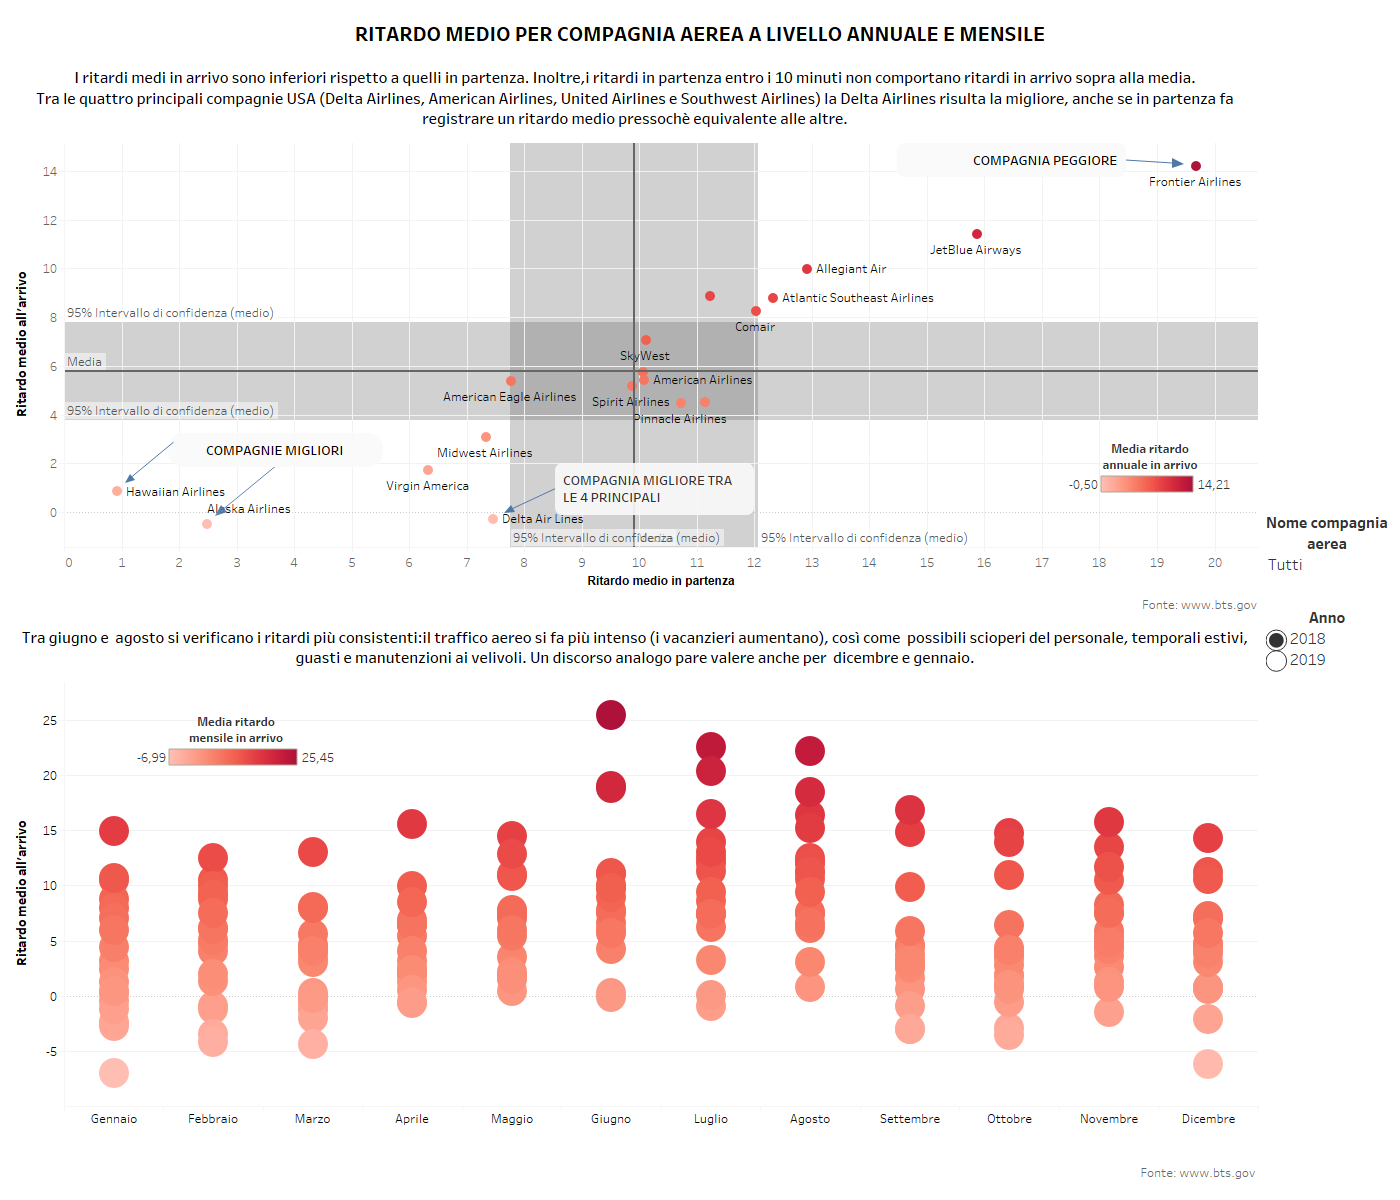

The dashboard page shown, as its layout file describes it:
{"tool":"tableau","page":{"name":"Dashboard1","canvas":[1280,1024],"ordinal":1},"visuals":[{"type":"worksheet","box":[0,0,1280,1024]},{"type":"worksheet","box":[8,8,1264,42.5]},{"type":"worksheet","box":[8,50.5,1170,69.5]},{"type":"worksheet","box":[1178,50.5,94,51.1]},{"type":"worksheet","box":[1178,101.6,94,342.4]},{"type":"worksheet","param":"horz","box":[8,120,1170,425]},{"type":"worksheet","param":"horz","box":[8,120,1170,425]},{"type":"worksheet","title":"scatterplot_airlines","mark":"Circle","rows":["ARR_DELAY"],"cols":["DEP_DELAY"],"box":[8,120,1170,425]},{"type":"worksheet","title":"scatterplot_airlines","mark":"Circle","rows":["ARR_DELAY"],"cols":["DEP_DELAY"],"param":"[federated.0pieon81nj26g817genev0jxk5vg].[avg:ARR_DELAY:qk]","box":[988,384,155,80]},{"type":"worksheet","param":"vert","box":[1178,444,94,572]},{"type":"worksheet","title":"scatterplot_airlines","mark":"Circle","rows":["ARR_DELAY"],"cols":["DEP_DELAY"],"param":"[federated.0pieon81nj26g817genev0jxk5vg].[none:Airline_Name:nk]","box":[1178,444,94,82]},{"type":"worksheet","title":"scatterplot_airlines","mark":"Circle","rows":["ARR_DELAY"],"cols":["DEP_DELAY"],"param":"[federated.0pieon81nj26g817genev0jxk5vg].[none:YEAR:nk]","box":[1178,526,94,86]},{"type":"worksheet","box":[8,545,1170,52]},{"type":"worksheet","title":"dotplot_airlines","mark":"Circle","rows":["ARR_DELAY"],"cols":["MONTH"],"box":[8,597,1170,386.2]},{"type":"worksheet","title":"dotplot_airlines","mark":"Circle","rows":["ARR_DELAY"],"cols":["MONTH"],"param":"[federated.0pieon81nj26g817genev0jxk5vg].[avg:ARR_DELAY:qk]","box":[122,617,188,63]},{"type":"worksheet","box":[8,983.2,1170,32.8]}]}

Visuals, with their boxes on the page's 1280x1024 design canvas (x1, y1, x2, y2). These are canvas units, not pixel positions in the 1400x1200 screenshot, which may show the page scaled, cropped or inside an application window:
worksheet: (0,0,1280,1024)
worksheet: (8,8,1272,50)
worksheet: (8,50,1178,120)
worksheet: (1178,50,1272,102)
worksheet: (1178,102,1272,444)
worksheet: (8,120,1178,545)
worksheet: (8,120,1178,545)
"scatterplot_airlines" worksheet (Circle marks): (8,120,1178,545)
"scatterplot_airlines" worksheet (Circle marks): (988,384,1143,464)
worksheet: (1178,444,1272,1016)
"scatterplot_airlines" worksheet (Circle marks): (1178,444,1272,526)
"scatterplot_airlines" worksheet (Circle marks): (1178,526,1272,612)
worksheet: (8,545,1178,597)
"dotplot_airlines" worksheet (Circle marks): (8,597,1178,983)
"dotplot_airlines" worksheet (Circle marks): (122,617,310,680)
worksheet: (8,983,1178,1016)
